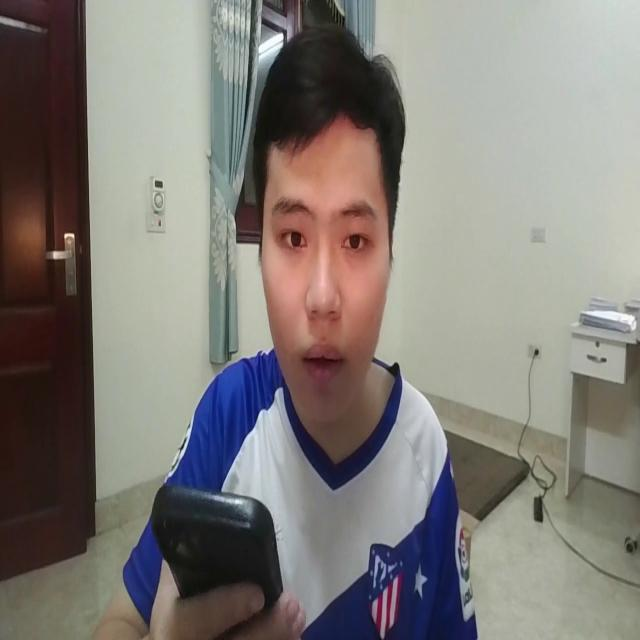phone: (147, 442, 302, 638)
student: (96, 24, 482, 640)
